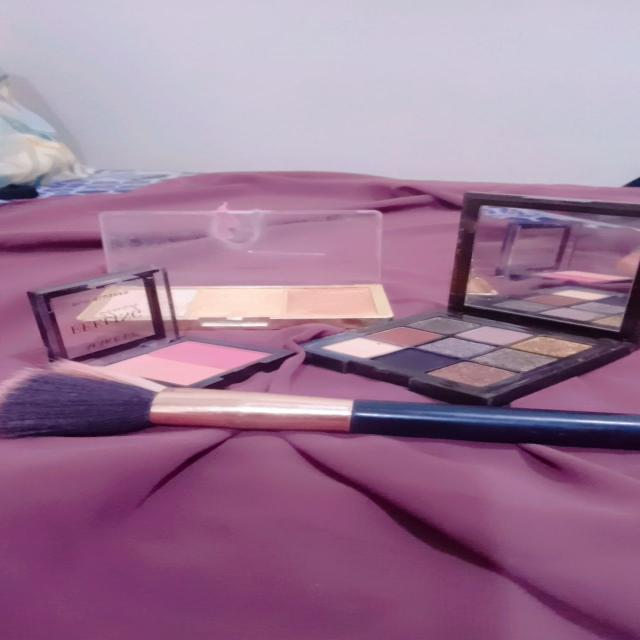blush: (109, 337, 297, 386)
brush: (1, 367, 640, 453)
eye shade: (297, 309, 629, 397)
lip shade: (84, 272, 422, 325)
